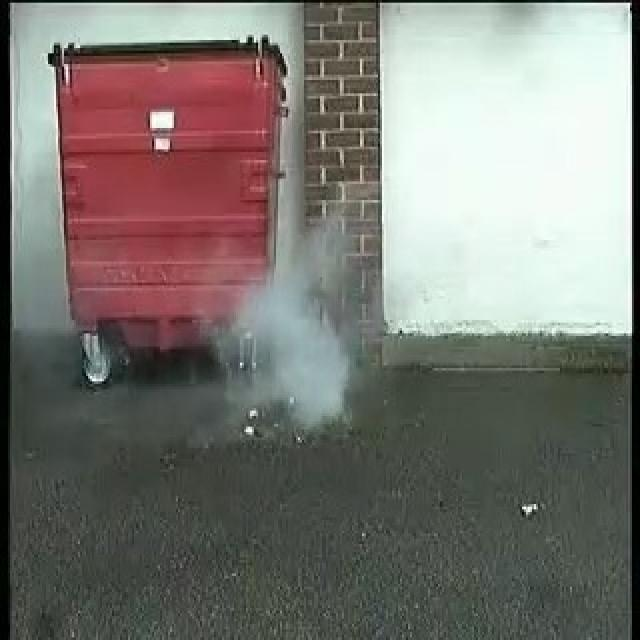smoke: (247, 226, 345, 428)
